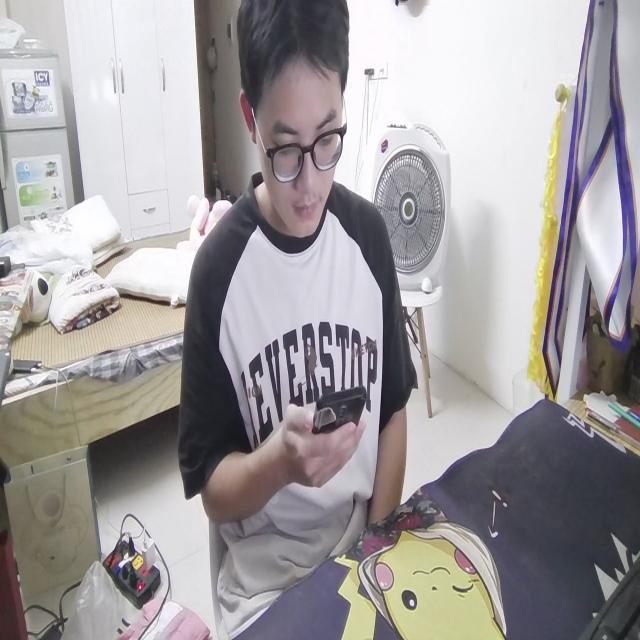phone: (306, 382, 368, 438)
student: (179, 0, 415, 624)
